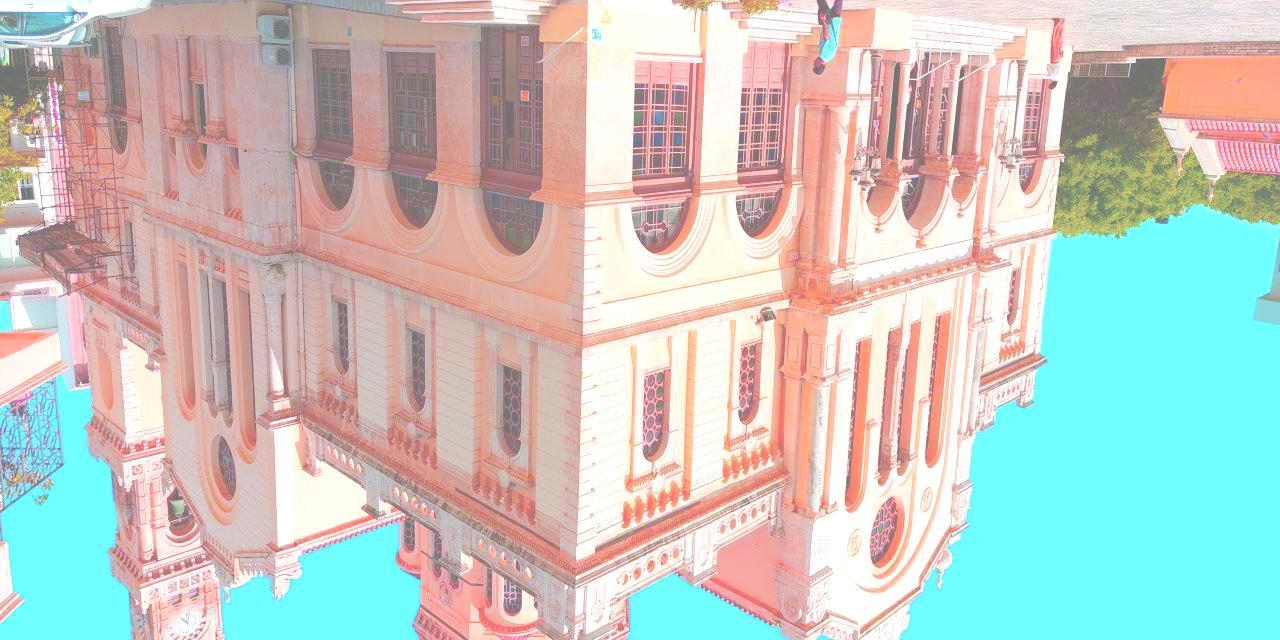Agios Minas: (27, 1, 1074, 640)
